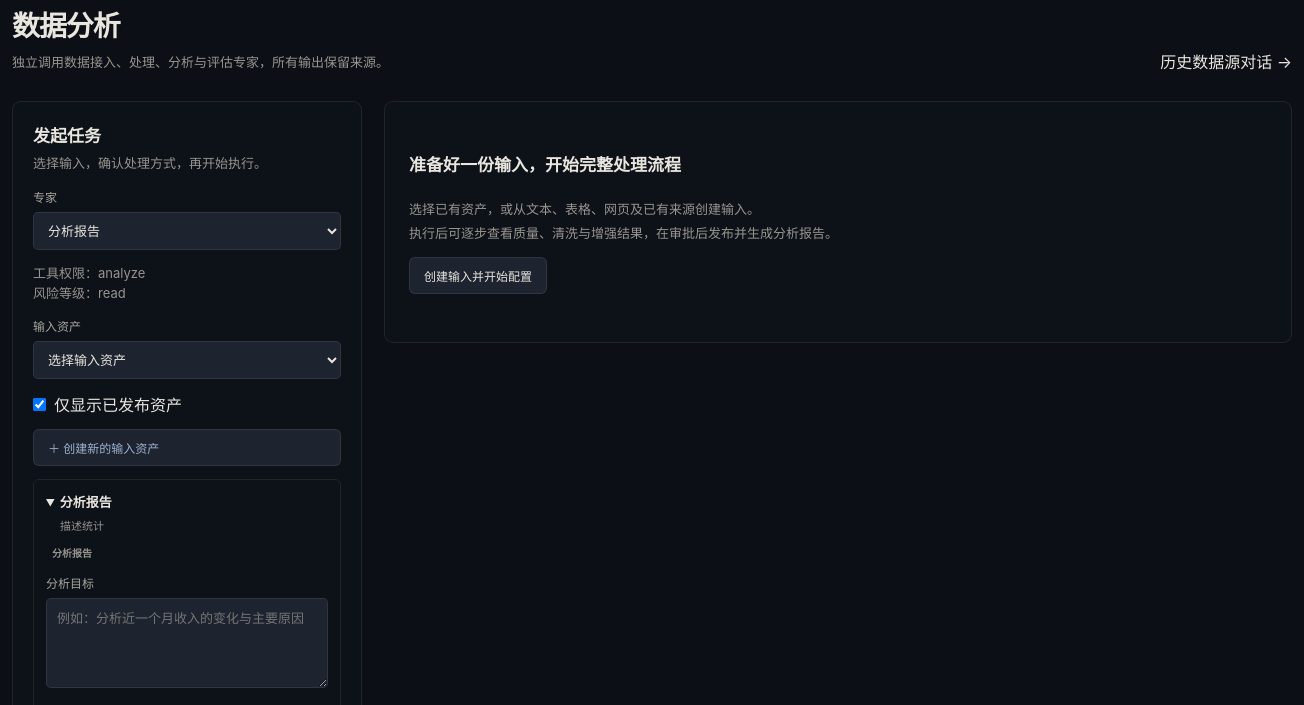
published asset analysis › defaults to published inputs and renders independent invocation output
(page scrolled)
Select "published-1 · 已发布资产 · v2" in the dropdown labelled "输入资产" at (187, 360), box top-left (33, 341), bottom-right (341, 379)
(page scrolled)
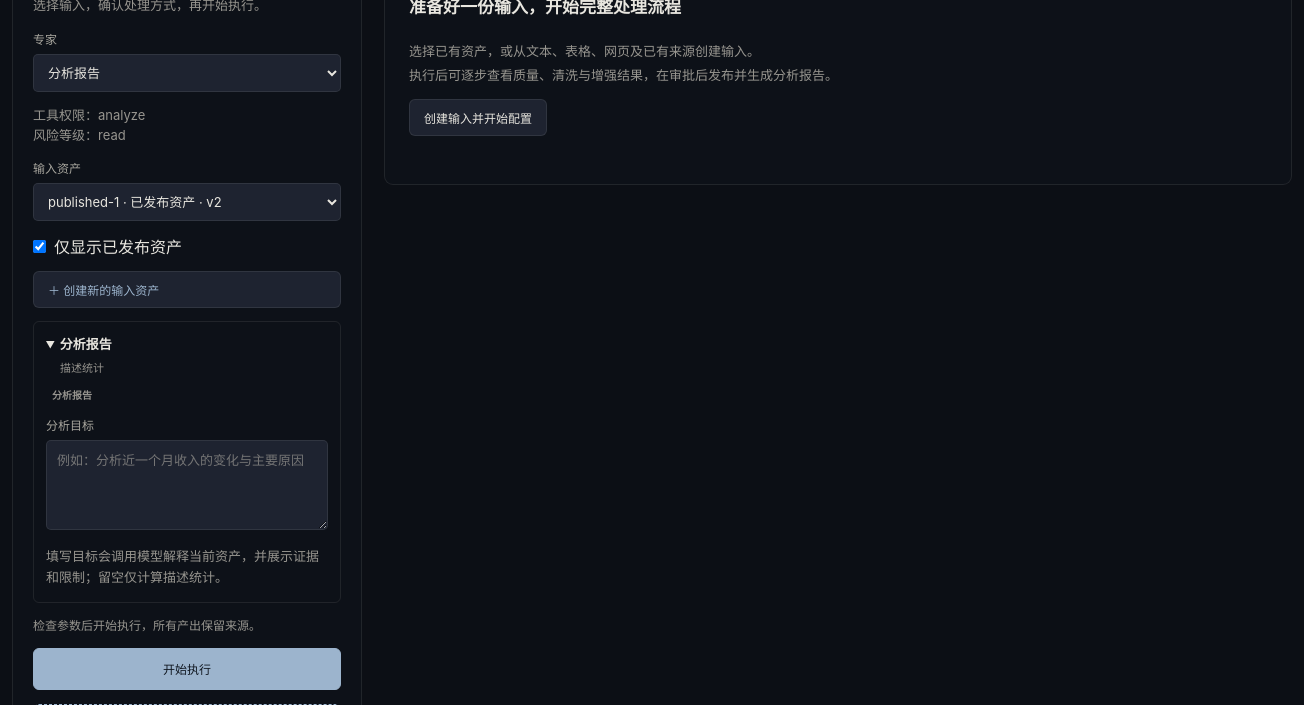
Submit the form, box top-left (33, 30), bottom-right (341, 690)
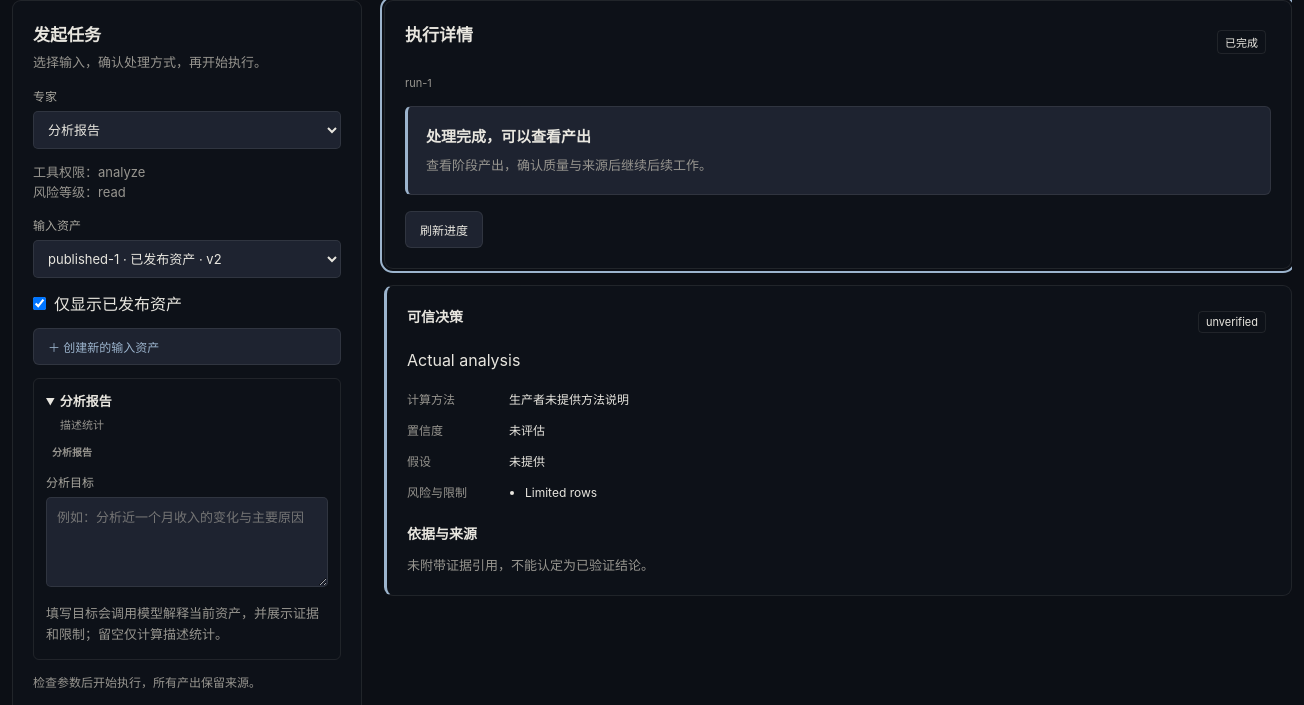
Expected: the text "Actual analysis" is shown, top-left (407, 350), bottom-right (520, 370)
Expected: the text "Limited rows" is shown, top-left (525, 486), bottom-right (597, 500)
